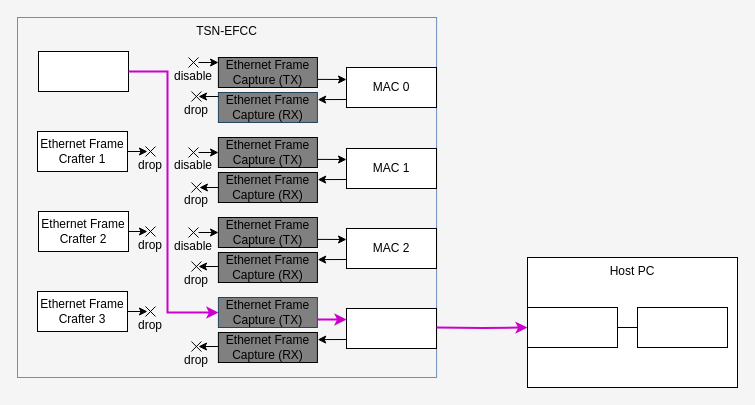
This 755x405 diagram has some shape labels left out. The shapes that lost their labels are listed below. From the top down, each one's centre as x and y in pixels, then its label:
(x=83, y=71): Ethernet Frame Crafter 0
(x=391, y=328): MAC 3
(x=572, y=327): 1GbE Port
(x=682, y=327): WireShark
